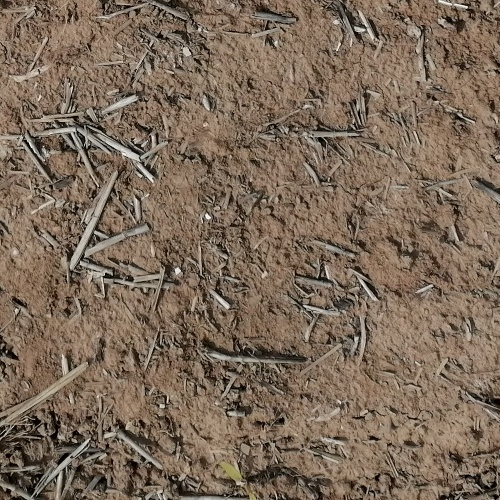beet: (219, 464, 256, 500)
